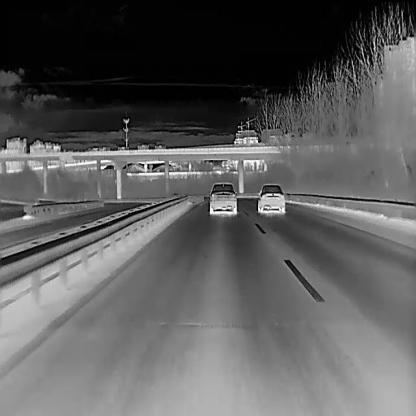car: (209, 182, 237, 214), (257, 184, 285, 213)
